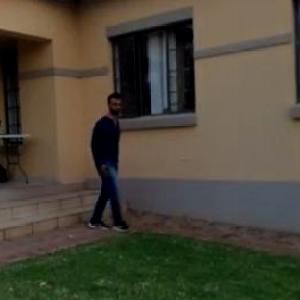follow: (95, 94, 130, 218)
